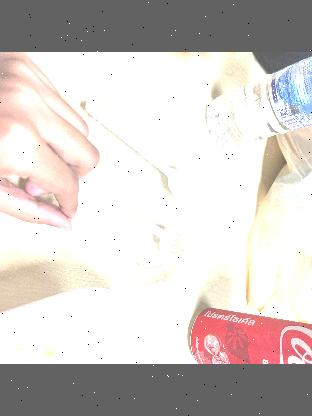Others: (77, 94, 213, 212), (74, 175, 206, 273)
